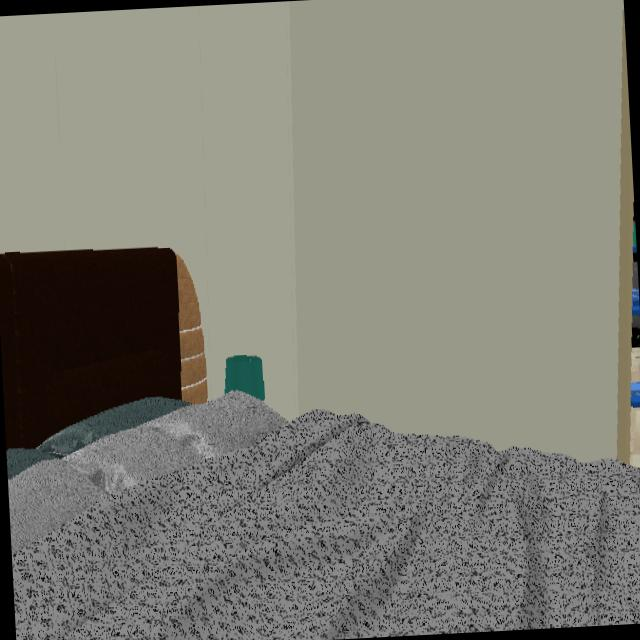bed: (7, 393, 640, 640)
lamp: (226, 356, 265, 401)
pillow: (8, 393, 280, 558)
